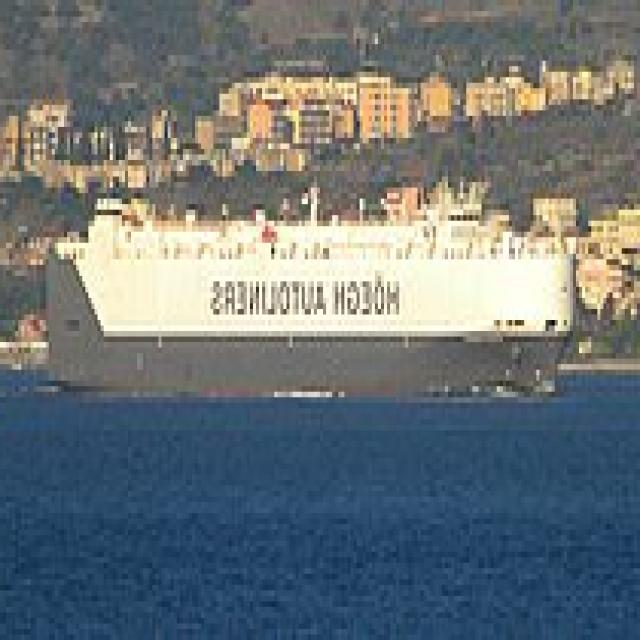Carrier: (46, 182, 588, 397)
